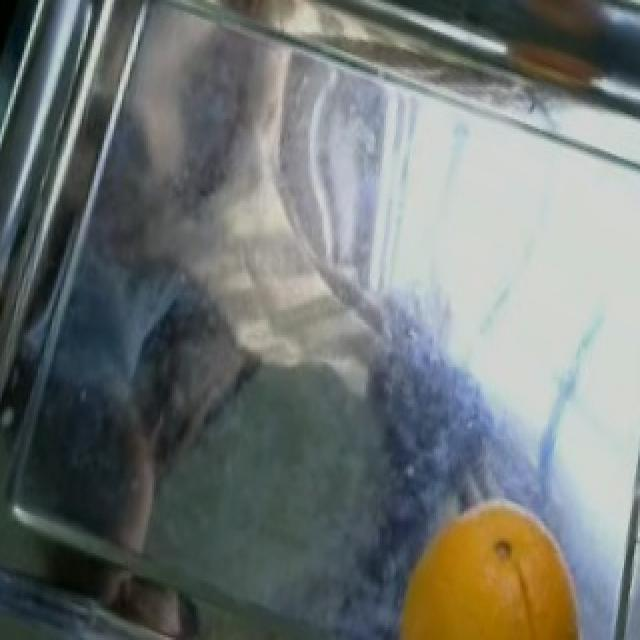Fruit: (384, 496, 594, 640)
